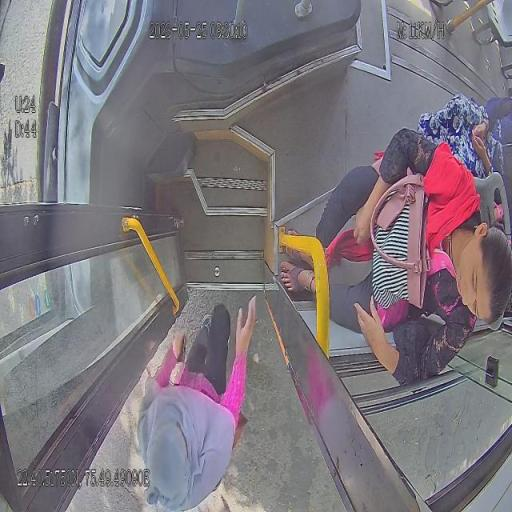persona: (279, 128, 511, 386), (136, 293, 258, 511)
